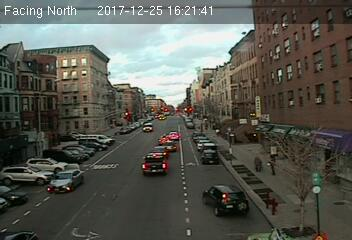car: (203, 182, 250, 218), (46, 169, 85, 191), (142, 152, 167, 175), (200, 149, 218, 164), (163, 140, 176, 151)
